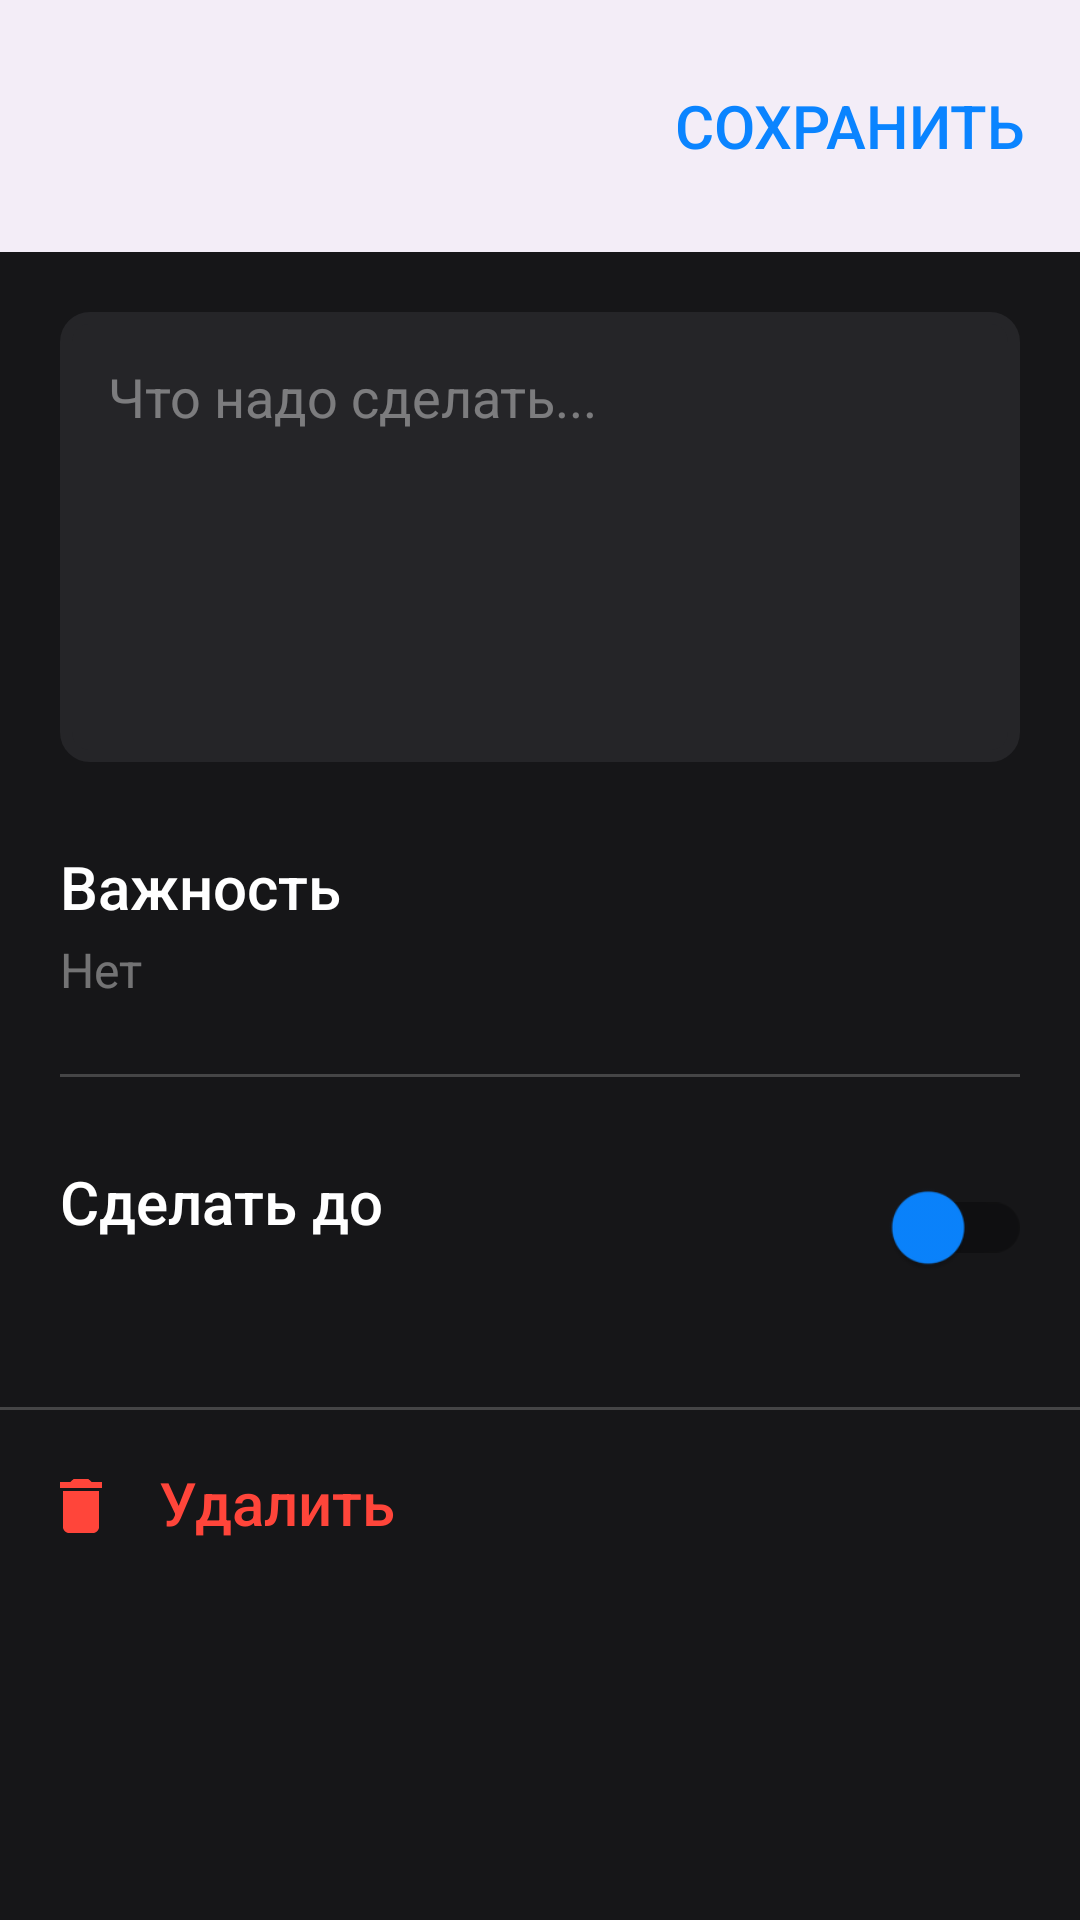

Where icons sit on this 1080w x 1920h app screen, as box(x1, y1, x2, y2):
delete: box(60, 1479, 102, 1533)
